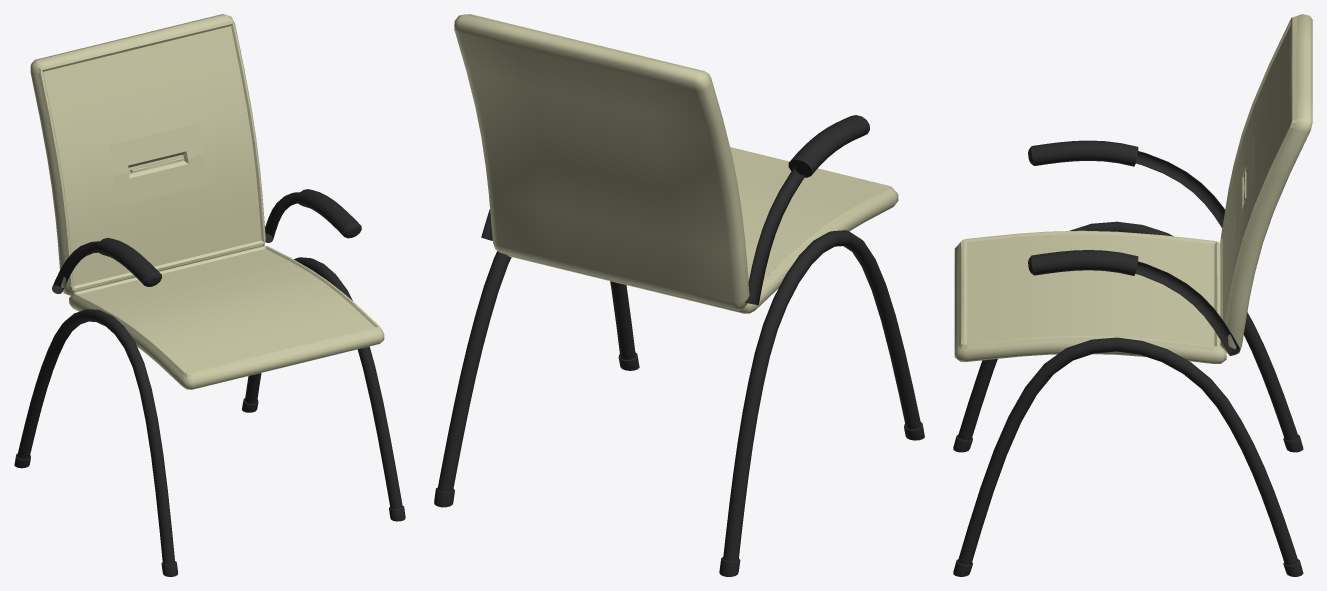
Rendered from Chair.fbx.
3 renders of one model, left to right at view 1: azimuth 30°, elevation 25°; view 2: azimuth 150°, elevation 25°; view 3: azimuth 270°, elevation 25°, orthographic. The views are drawn at different scales.
Visible parts, largest first — view 1: Chair; view 2: Chair; view 3: Chair.
Part boxes in pixels (x1,y1,x2,y2): Chair: [14, 14, 405, 576]; Chair: [434, 14, 924, 576]; Chair: [953, 14, 1312, 576].
Size of the model in its own units: 577 by 910 by 665.
